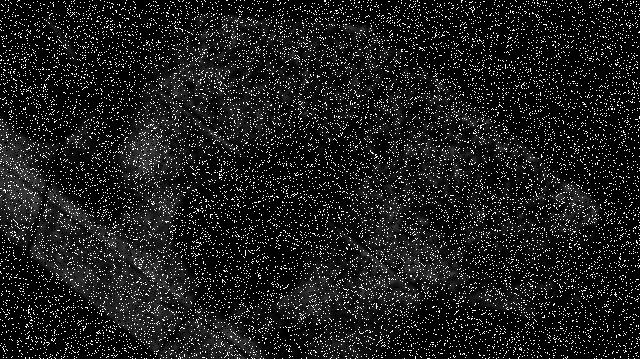pot: (172, 144, 334, 303), (0, 4, 143, 141), (416, 306, 546, 359)
